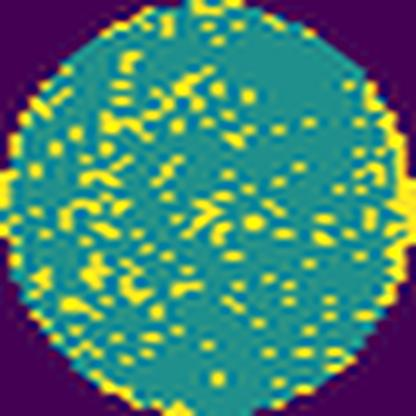Edge-Loc: (359, 67, 415, 314)
